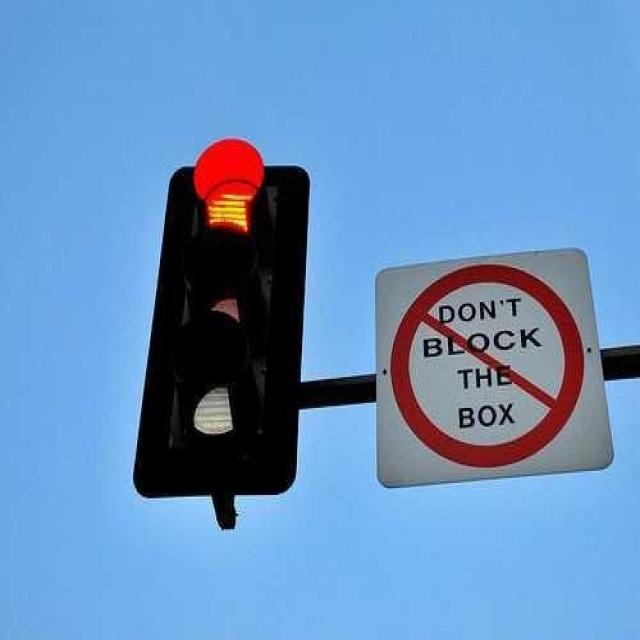Traffic Light -Red-: (124, 125, 315, 512)
